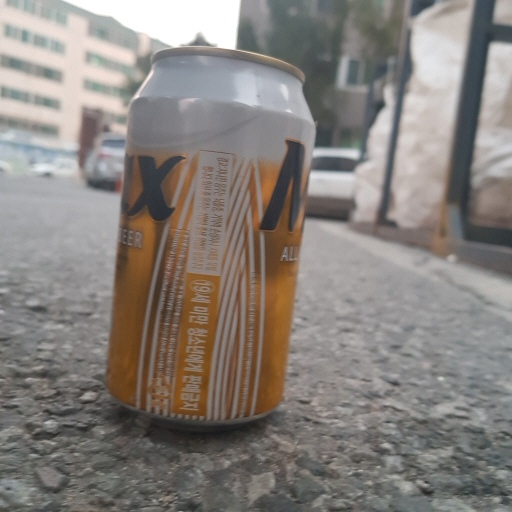Metal_0: (101, 45, 317, 430)
